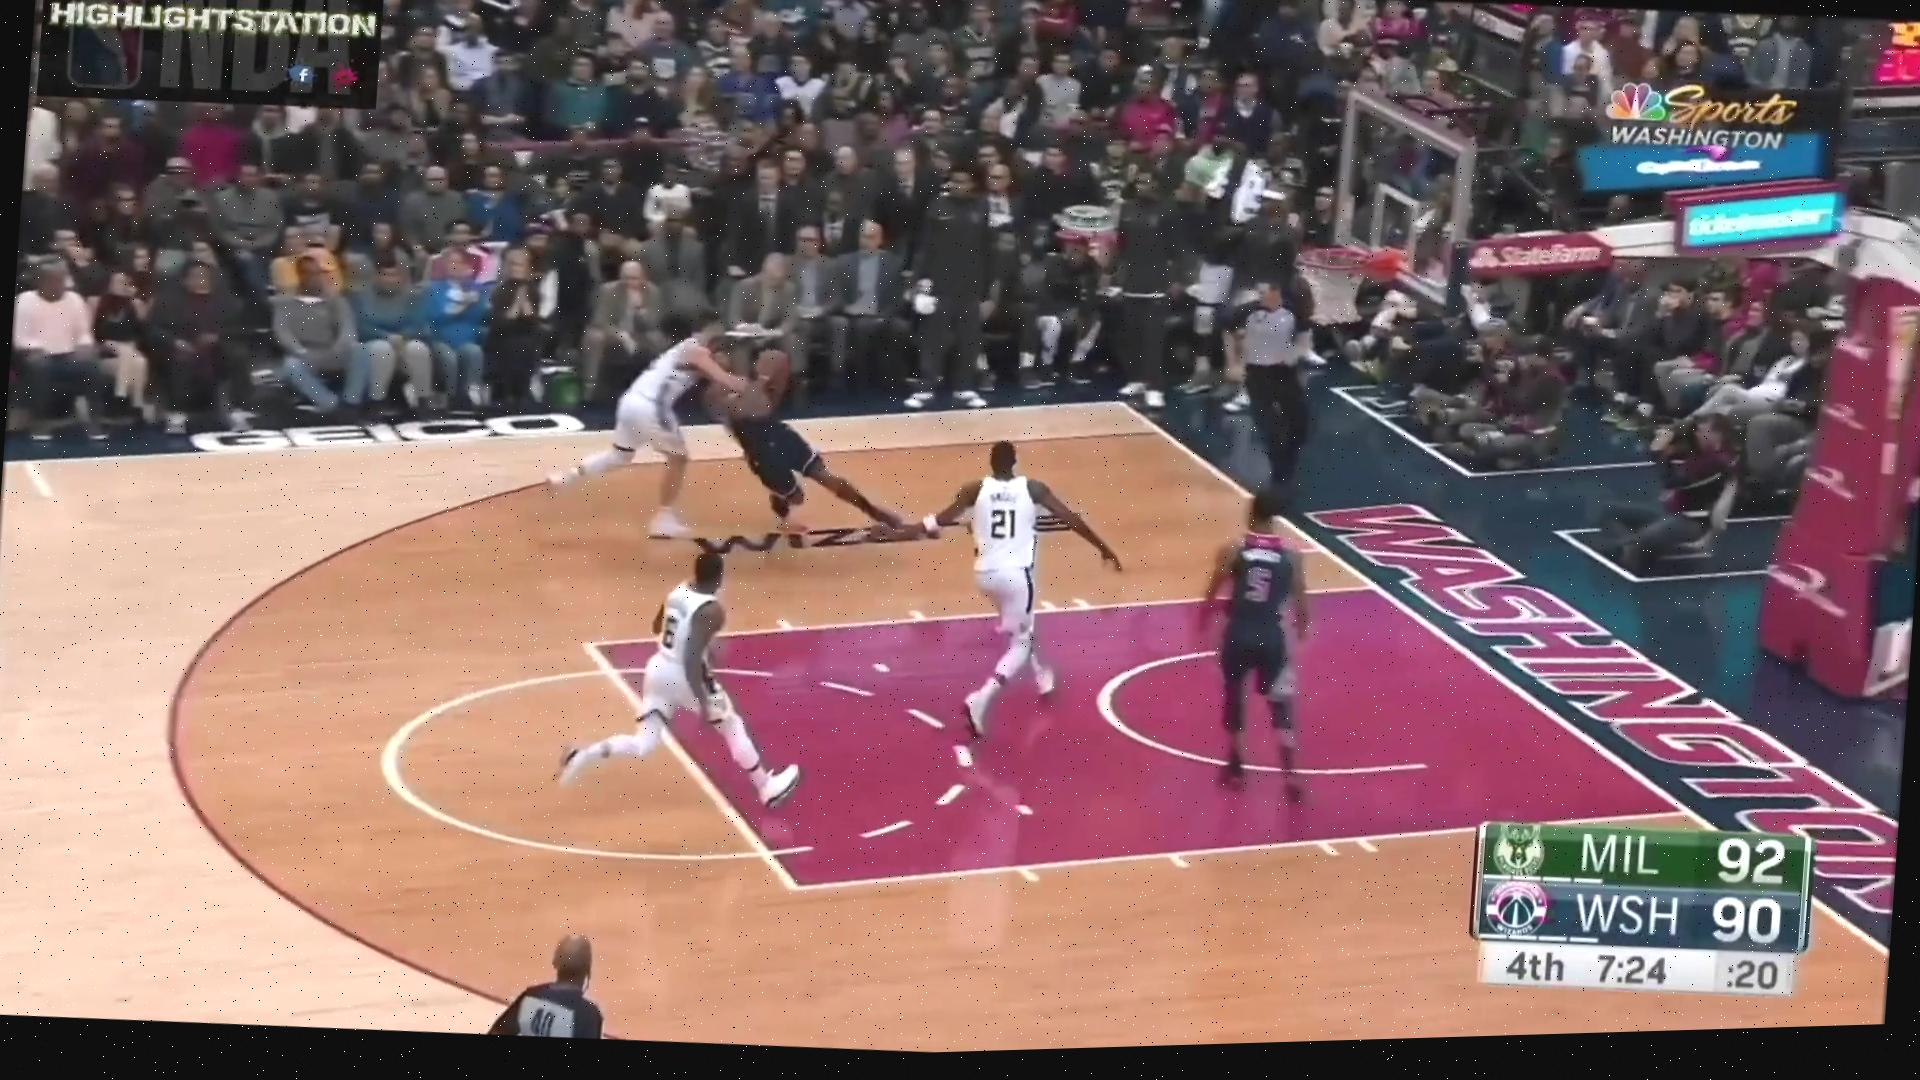foul: (560, 292, 927, 564)
